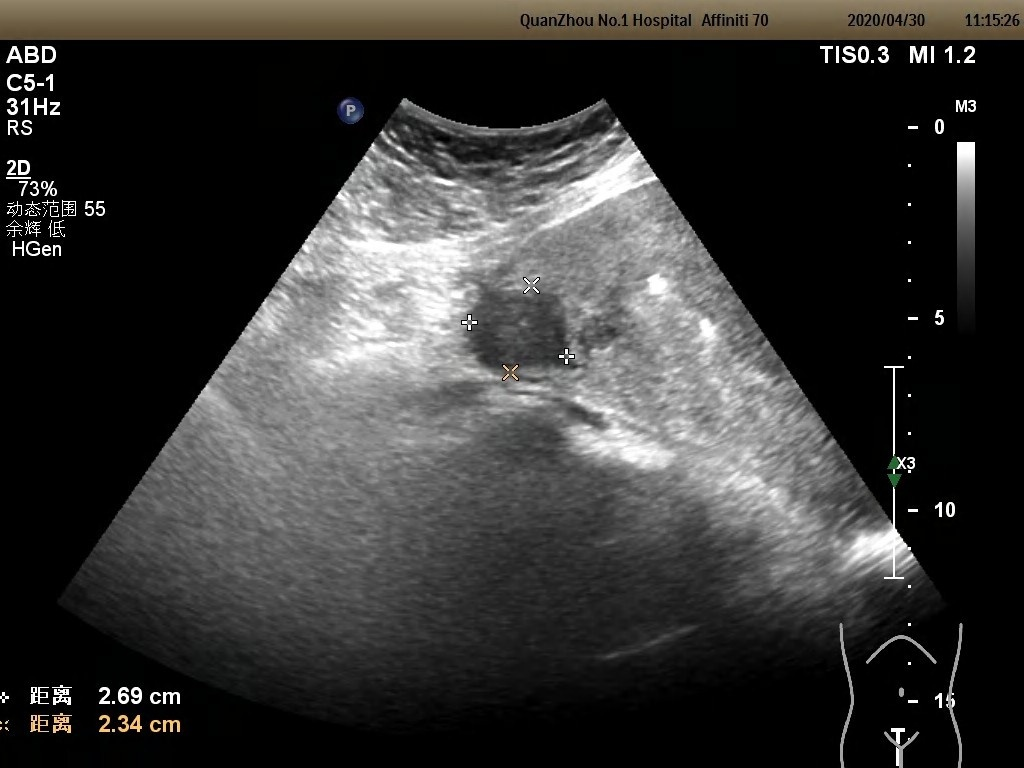肌瘤: (470, 285, 568, 374)
